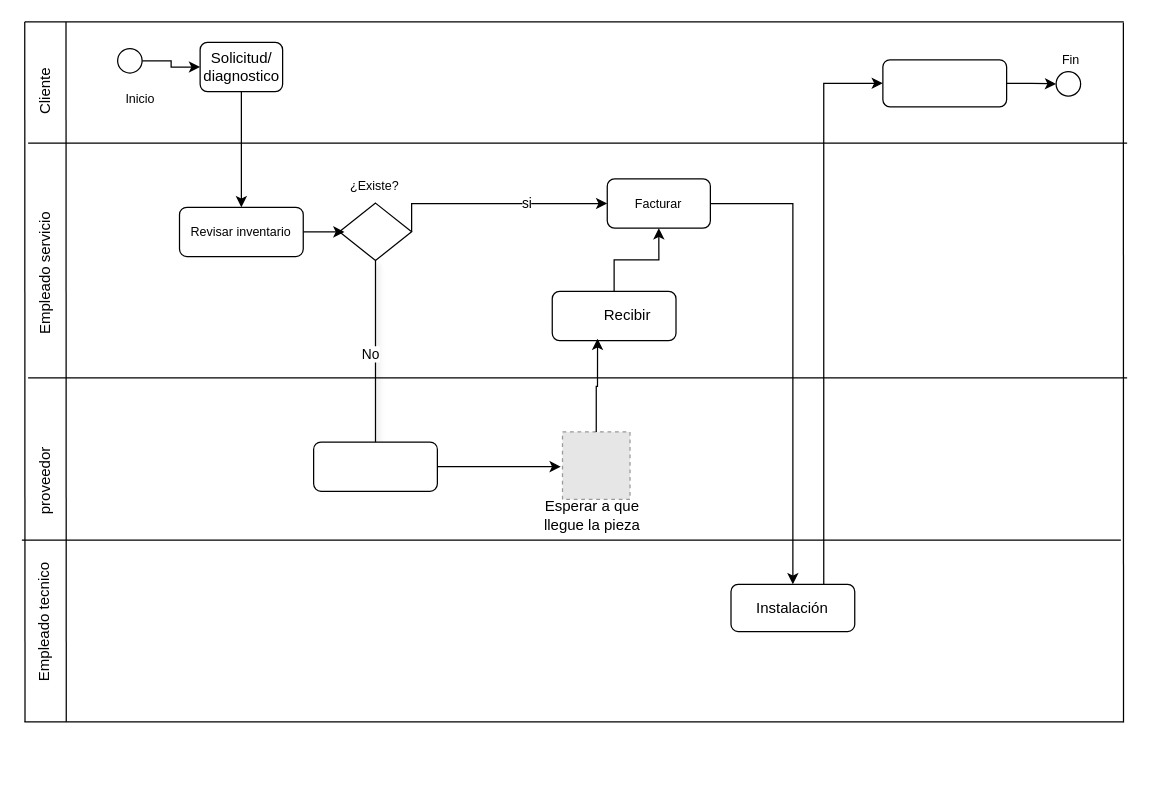
This 1151x809 diagram has some shape labels left out. Grey dashed boxes stand in for pictures. The centre of each missing label's shape, as x and y in pixels:
Pago: [944,82]
Solicitar pieza: [374,466]
